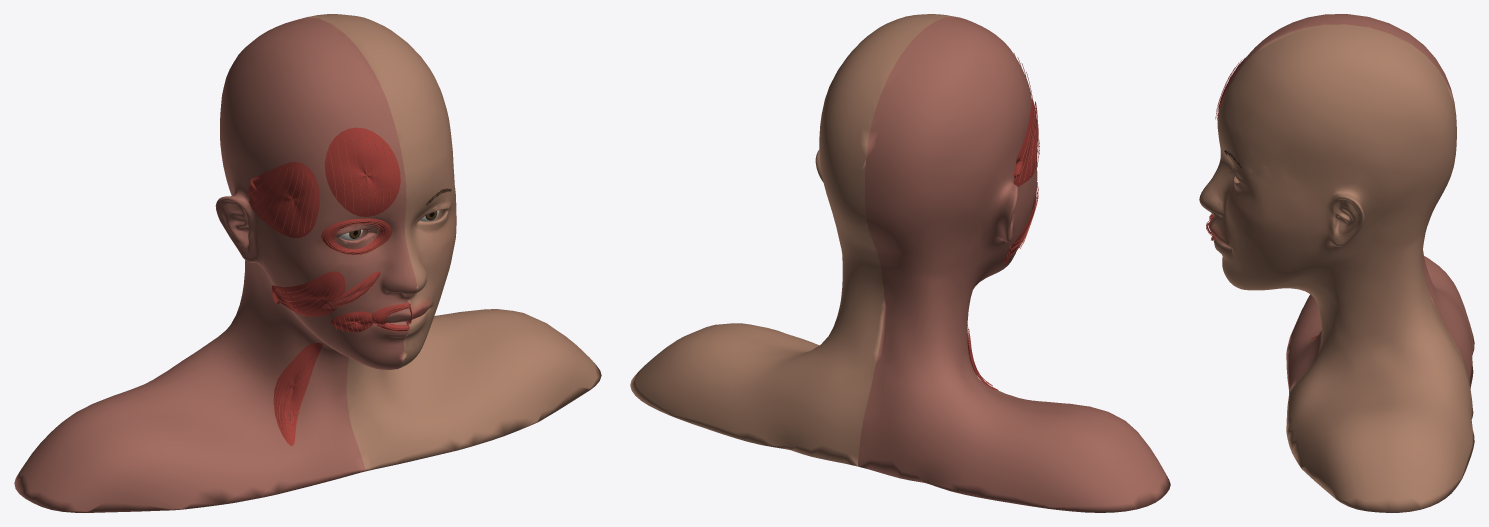
Rendered from lab-head-muscles-v2-normal.glb.
3 views of the same model, side by side, from view 1: azimuth 30°, elevation 25°; view 2: azimuth 150°, elevation 25°; view 3: azimuth 270°, elevation 25° (orthographic). The views are drawn at different scales.
Visible parts, largest first — view 1: part-facial-muscles-fascia, part-skin-half, part-facial-muscles-structures, part-facial-muscles-structures.001; view 2: part-facial-muscles-fascia, part-skin-half, part-facial-muscles-structures, part-facial-muscles-structures.001; view 3: part-skin-half, part-facial-muscles-fascia.
Boxes of the visible parts, x1,y1,x2,y2 form: part-facial-muscles-fascia: (14, 17, 416, 512); part-skin-half: (307, 14, 601, 471); part-facial-muscles-structures: (248, 127, 411, 445); part-facial-muscles-structures.001: (245, 134, 412, 434); part-facial-muscles-fascia: (857, 16, 1170, 512); part-skin-half: (630, 14, 952, 466); part-facial-muscles-structures: (967, 75, 1037, 390); part-facial-muscles-structures.001: (967, 53, 1039, 386); part-skin-half: (1199, 24, 1474, 512); part-facial-muscles-fascia: (1200, 14, 1474, 391).
Size of the model in its own units: 30.9 by 22.03 by 14.92.
